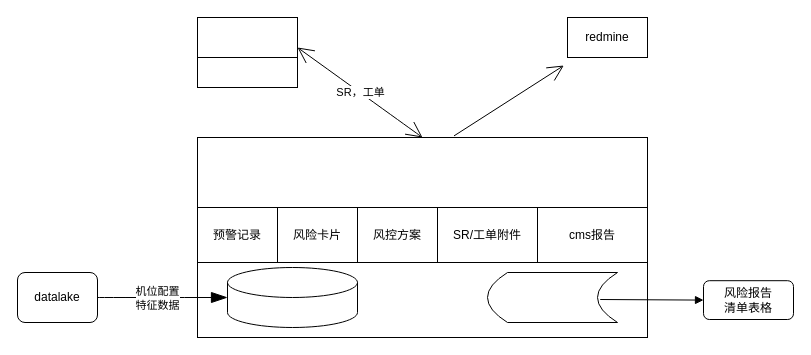
This 811x355 diagram has some shape labels left out. Here are the shapes that lost their labels. From the top down, the centre of each, then its label:
the point at 247,37: EAM, Maximo
the point at 247,72: ftp
the point at 292,297: postgresql
the point at 552,297: S3
